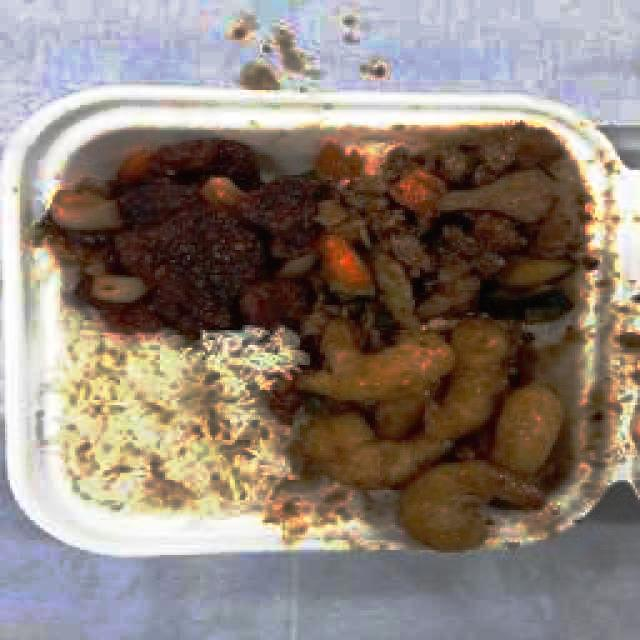Beijing Beef: (45, 135, 595, 335)
